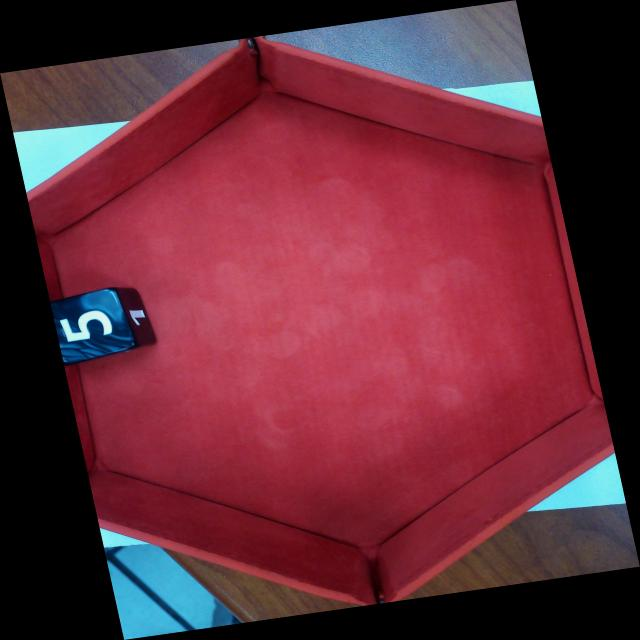dice: (55, 288, 142, 367)
